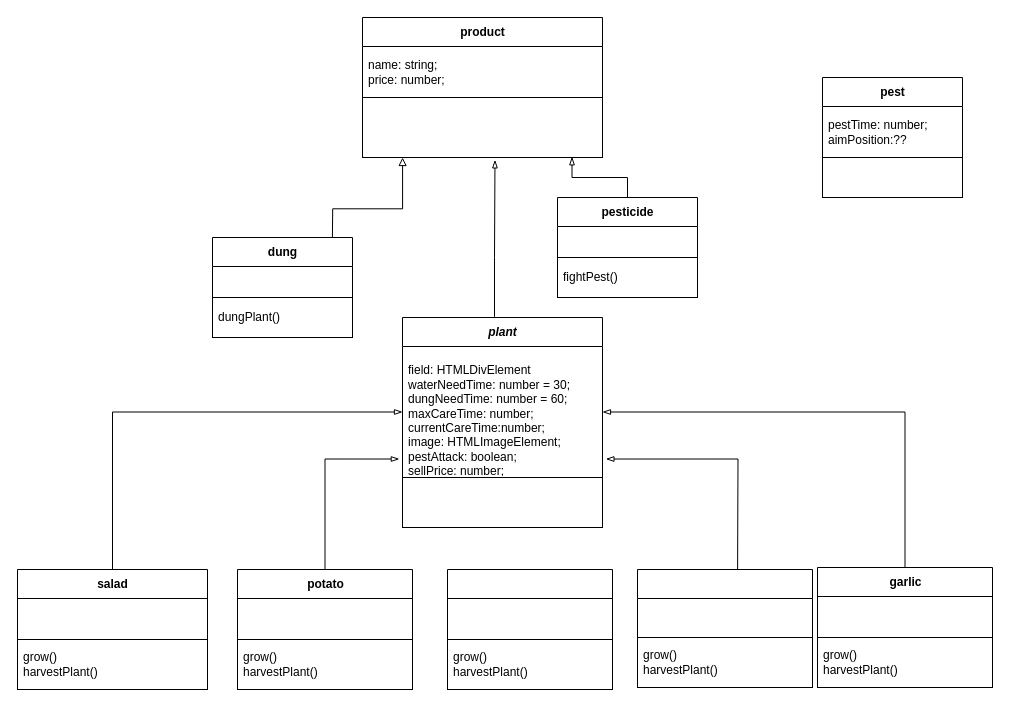
Some shapes in this 1010 by 707 pixel diagram are drawn without their labels. Here are the shapes that lost their labels. From the top down, the box of each, then its label:
(362, 96, 602, 158): constructor() buyProduct()
(822, 156, 962, 198): attackPlant(??)
(402, 476, 602, 528): constructor() die()
(446, 568, 612, 640): carrot
(636, 568, 812, 638): eggplant
